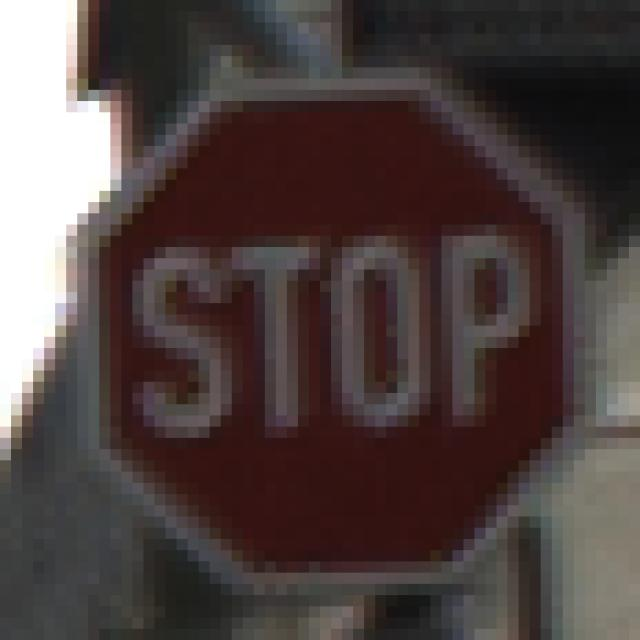STOP: (67, 57, 586, 574)
